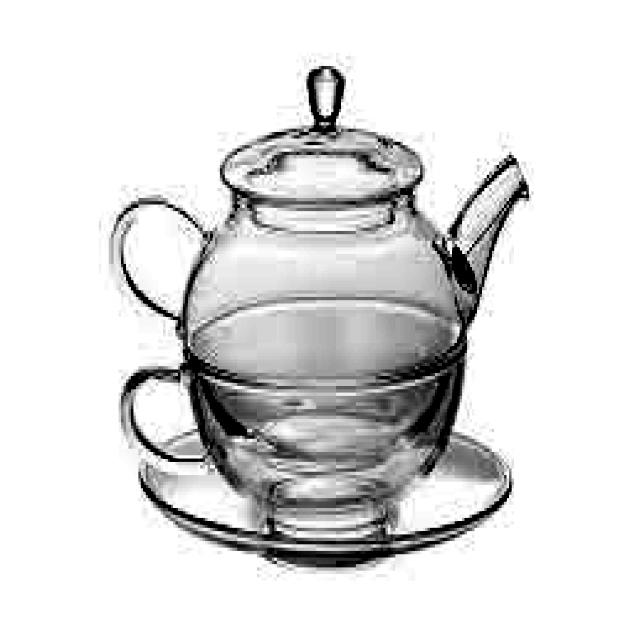Glass: (183, 117, 526, 525)
